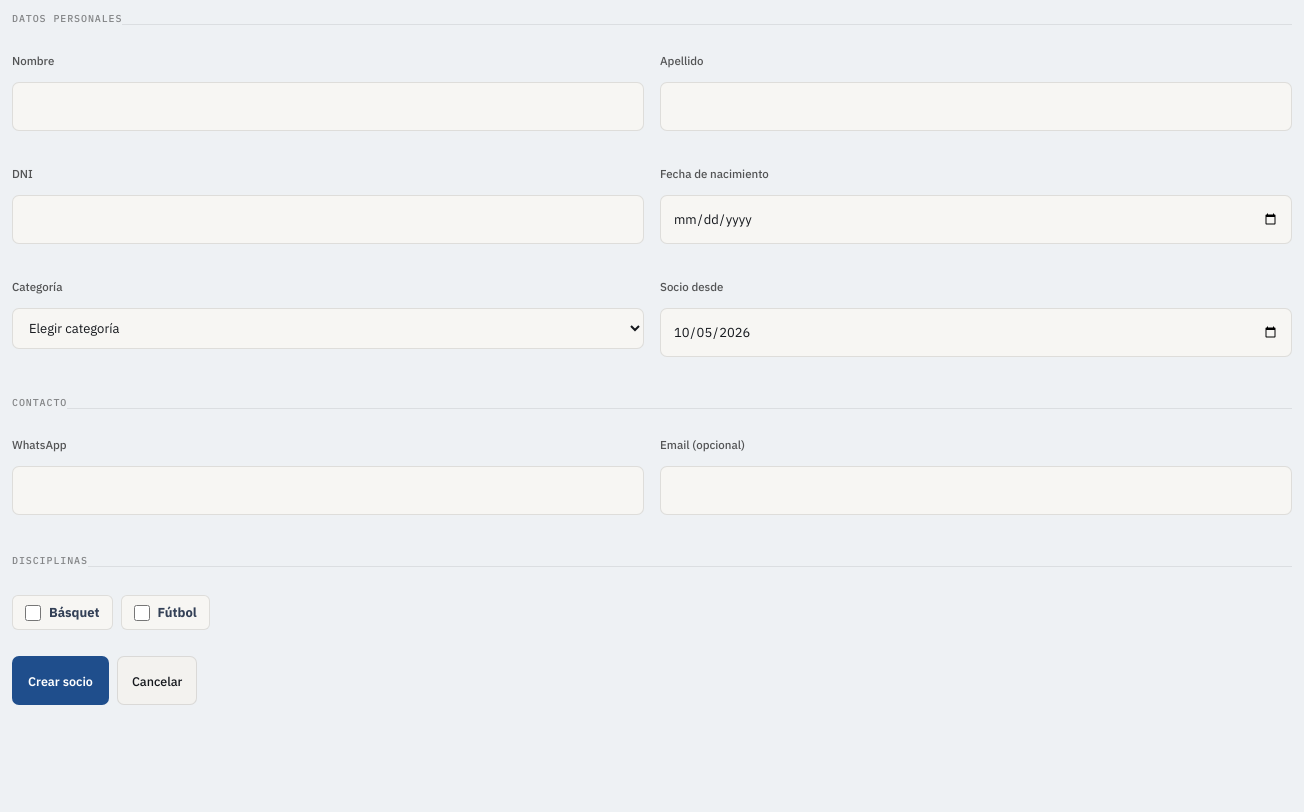
Test: MemberForm › clears a field error once the field is edited
This screenshot has width=1304, height=812.
Click the button "Crear socio": (60, 680) [12,656,109,705]
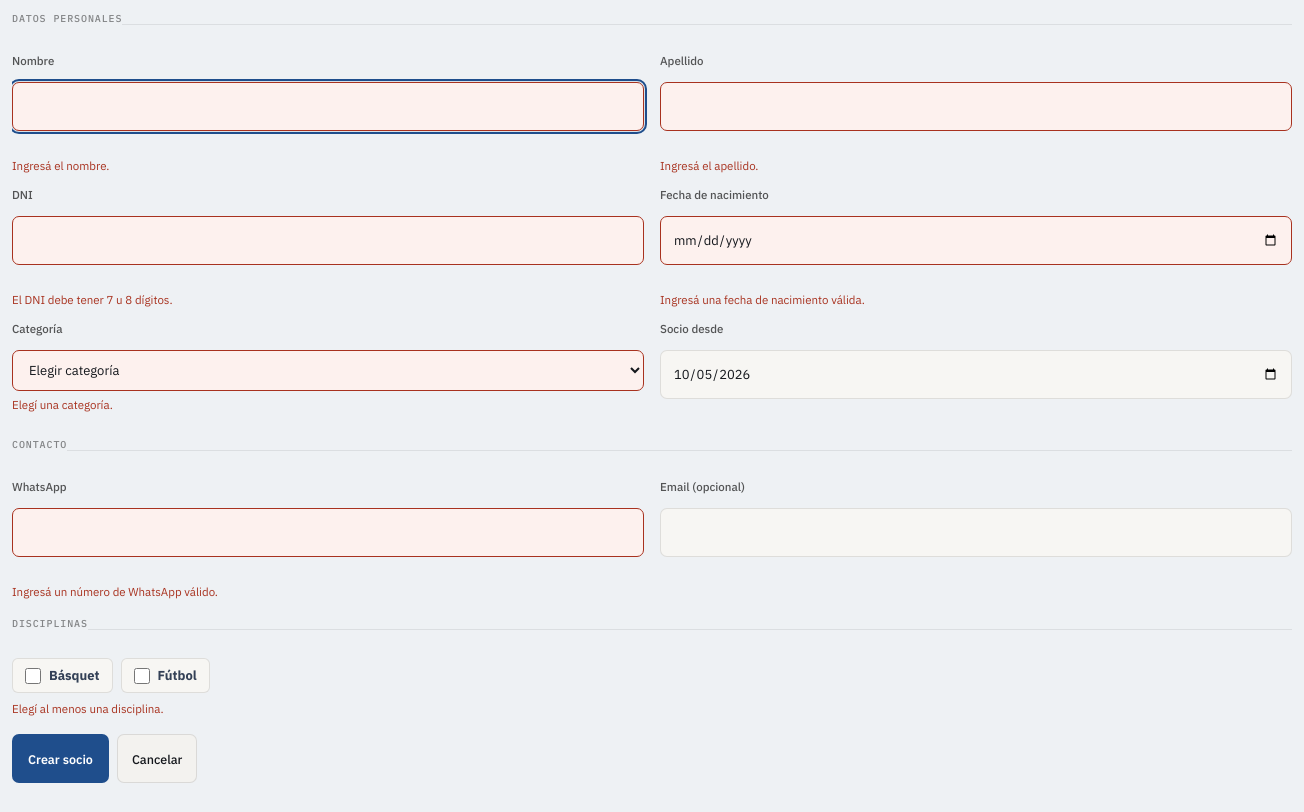
In the field labelled "Nombre": (328, 106) [12,82,644,131], type "L"
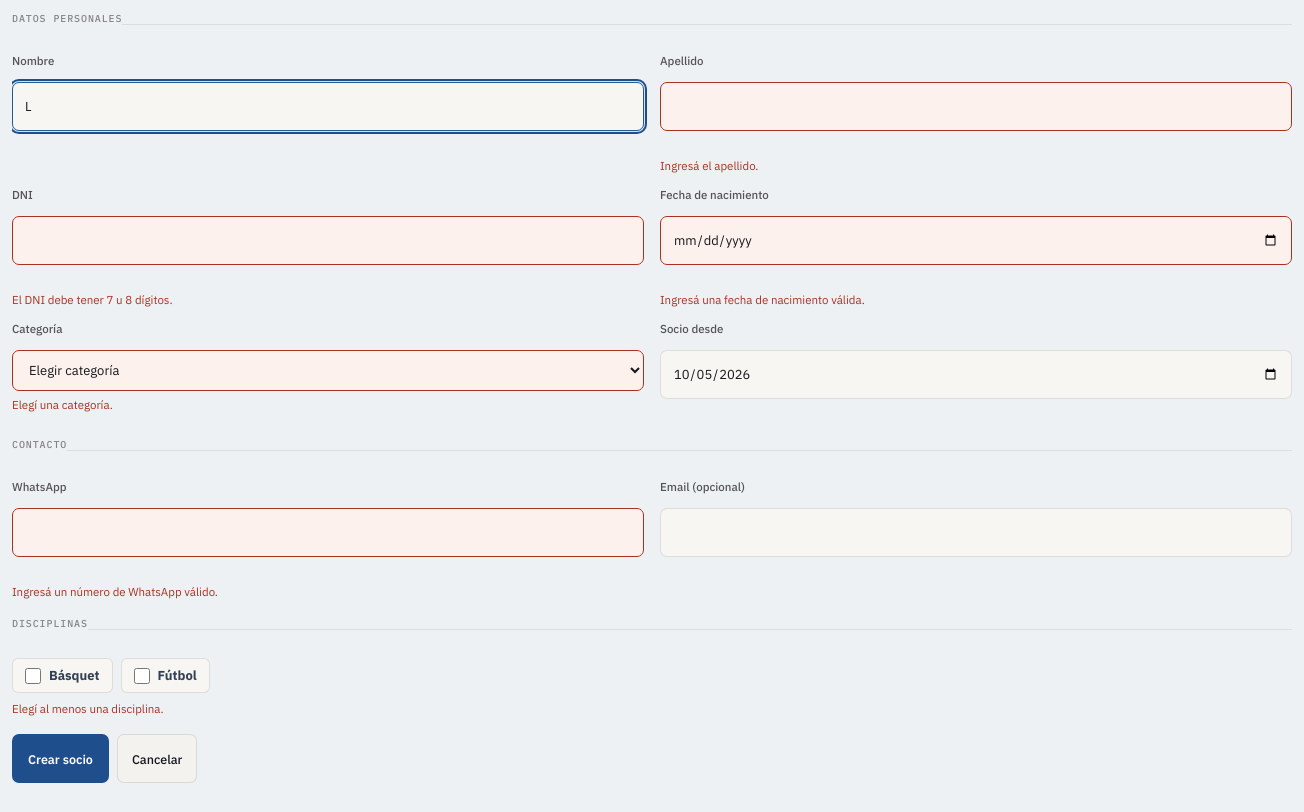
Now the text "Ingresá el nombre." is gone
